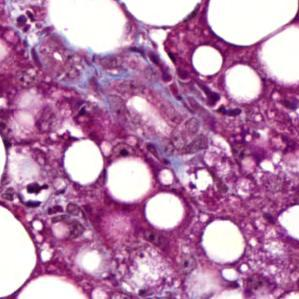steatosis: (199, 217, 245, 263), (64, 141, 104, 185), (143, 193, 187, 228), (189, 42, 225, 76)
